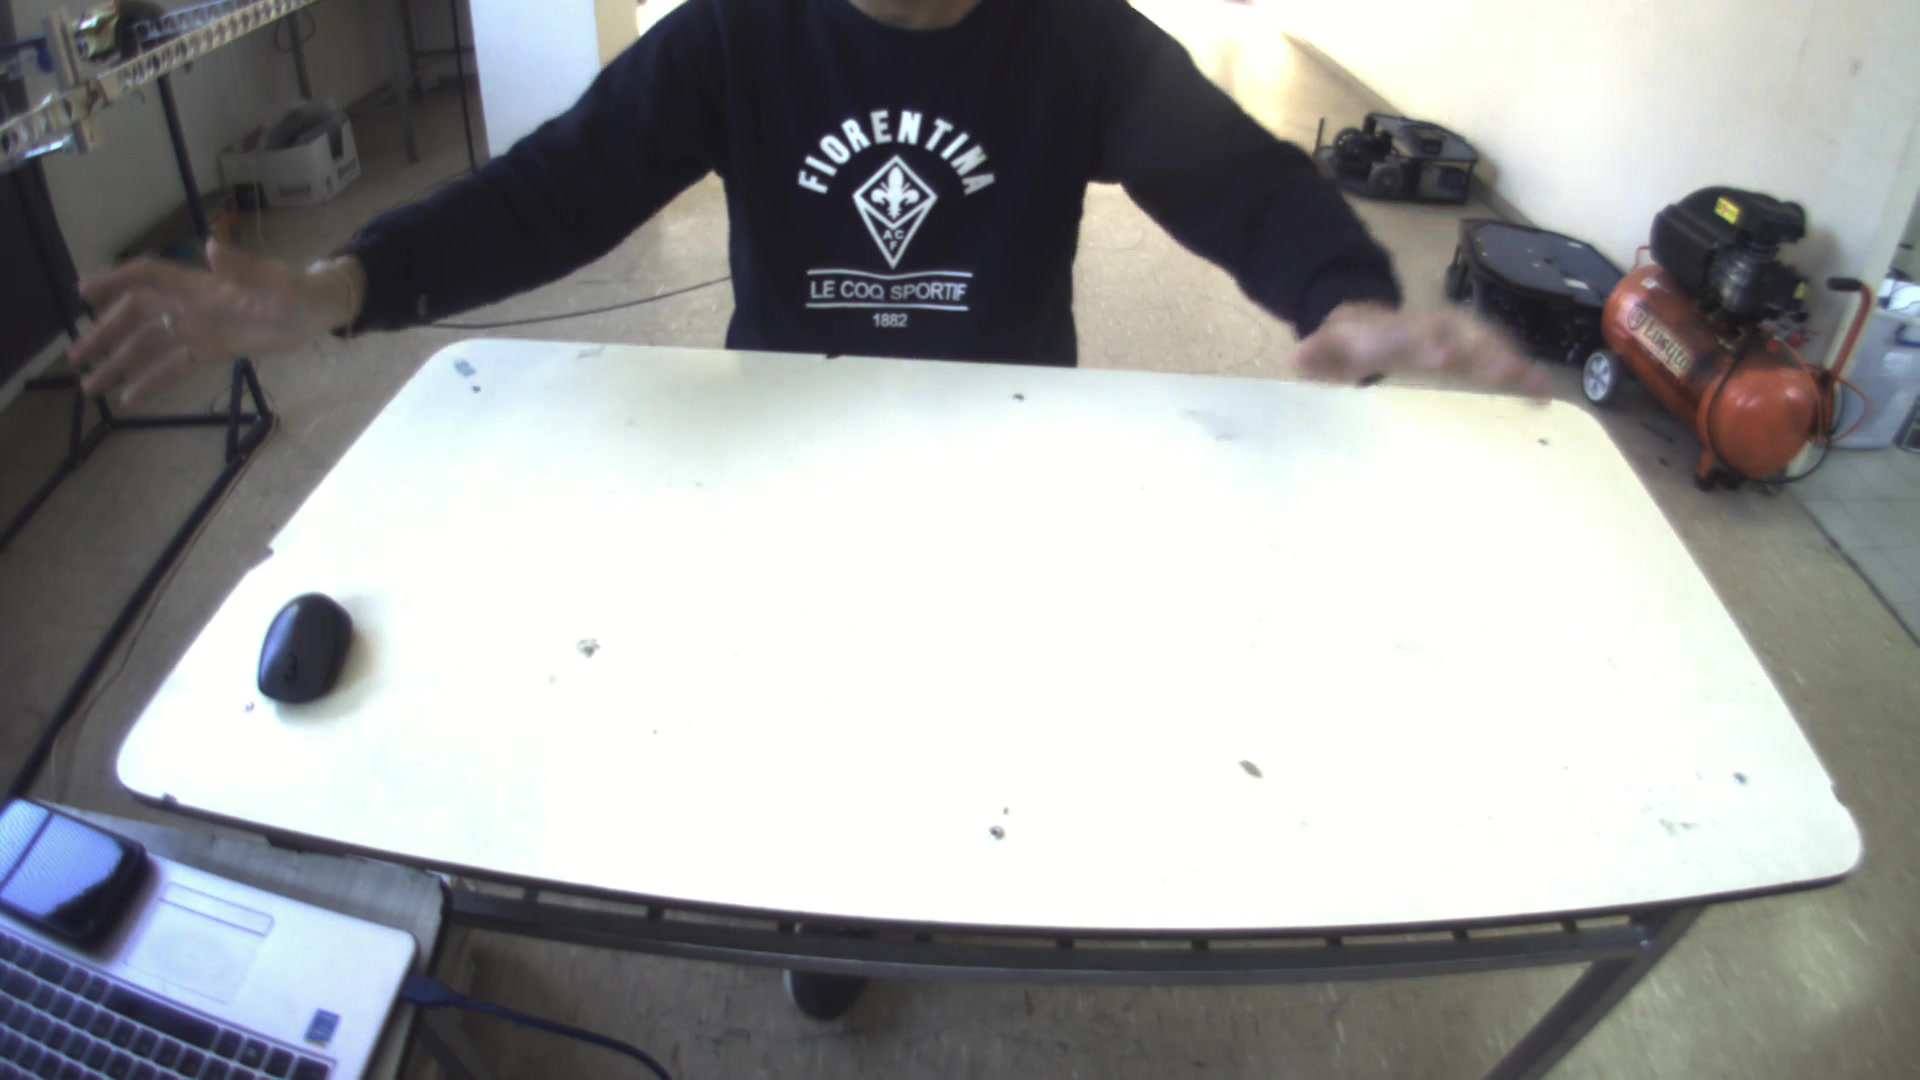hand: (47, 218, 367, 411)
